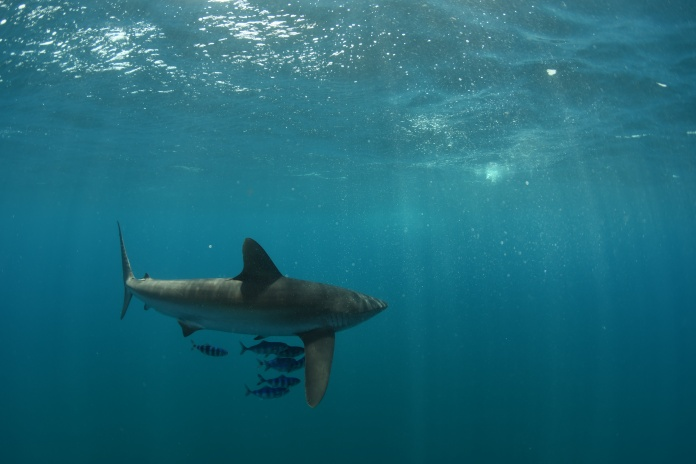Mako: (97, 214, 397, 410)
